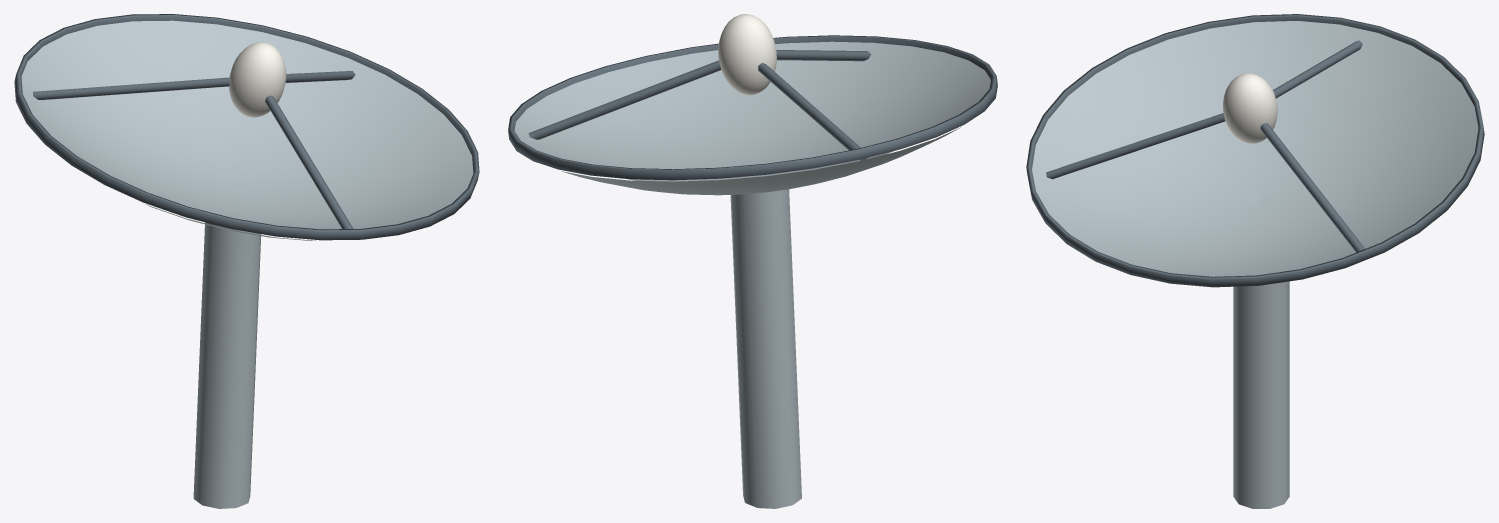
Rendered from eagle_antennas.s_band.glb.
The picture shows the model from 3 angles, left to right: view 1: azimuth 30°, elevation 25°; view 2: azimuth 150°, elevation 25°; view 3: azimuth 270°, elevation 25°; orthographic projection. The views are drawn at different scales.
Parts seen in each view (by area): view 1: eagle_antennas.s_band.reflector.mesh, eagle_antennas.s_band.mesh; view 2: eagle_antennas.s_band.reflector.mesh, eagle_antennas.s_band.mesh; view 3: eagle_antennas.s_band.reflector.mesh, eagle_antennas.s_band.mesh.
Boxes of the visible parts, x1,y1,x2,y2 form: eagle_antennas.s_band.reflector.mesh: (14, 14, 479, 240); eagle_antennas.s_band.mesh: (193, 222, 261, 508); eagle_antennas.s_band.reflector.mesh: (508, 14, 997, 195); eagle_antennas.s_band.mesh: (730, 189, 801, 508); eagle_antennas.s_band.reflector.mesh: (1026, 14, 1484, 287); eagle_antennas.s_band.mesh: (1233, 281, 1289, 508).
Bounding box in the file's own units: 0.9507 × 1.01 × 0.9587.
